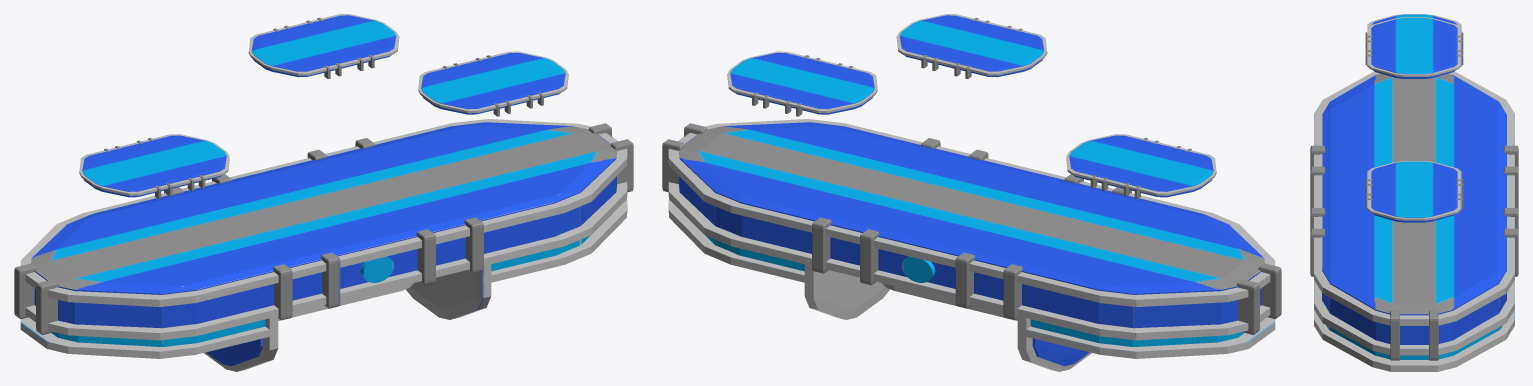
File: Plataforma_Fusfus.obj
The picture shows the model from 3 angles, left to right: view 1: azimuth 30°, elevation 25°; view 2: azimuth 150°, elevation 25°; view 3: azimuth 270°, elevation 25°; orthographic projection. The views are drawn at different scales.
Visible parts, largest first — view 1: pisa_plat_central_Cube, pisa_plat_aire.001_Cube.038, pisa_plat_aire.002_Cube.039, pisa_plat_aire_Cube.036; view 2: pisa_plat_central_Cube, pisa_plat_aire.001_Cube.038, pisa_plat_aire.002_Cube.039, pisa_plat_aire_Cube.036; view 3: pisa_plat_central_Cube, pisa_plat_aire_Cube.036, pisa_plat_aire.002_Cube.039, pisa_plat_aire.001_Cube.038.
Part boxes in pixels (box(x1,y1,x2,y2)): pisa_plat_central_Cube: box(14, 119, 633, 371); pisa_plat_aire.001_Cube.038: box(79, 134, 229, 199); pisa_plat_aire.002_Cube.039: box(418, 51, 568, 116); pisa_plat_aire_Cube.036: box(248, 14, 399, 78); pisa_plat_central_Cube: box(662, 119, 1281, 371); pisa_plat_aire.001_Cube.038: box(1066, 134, 1216, 199); pisa_plat_aire.002_Cube.039: box(727, 51, 877, 116); pisa_plat_aire_Cube.036: box(896, 14, 1047, 78); pisa_plat_central_Cube: box(1310, 72, 1518, 371); pisa_plat_aire_Cube.036: box(1365, 17, 1463, 78); pisa_plat_aire.002_Cube.039: box(1365, 161, 1463, 222); pisa_plat_aire.001_Cube.038: box(1365, 14, 1463, 35).
Size of the model in its own units: 31.49 by 14.71 by 10.78.
Materials: 4 (4 with a texture image).
